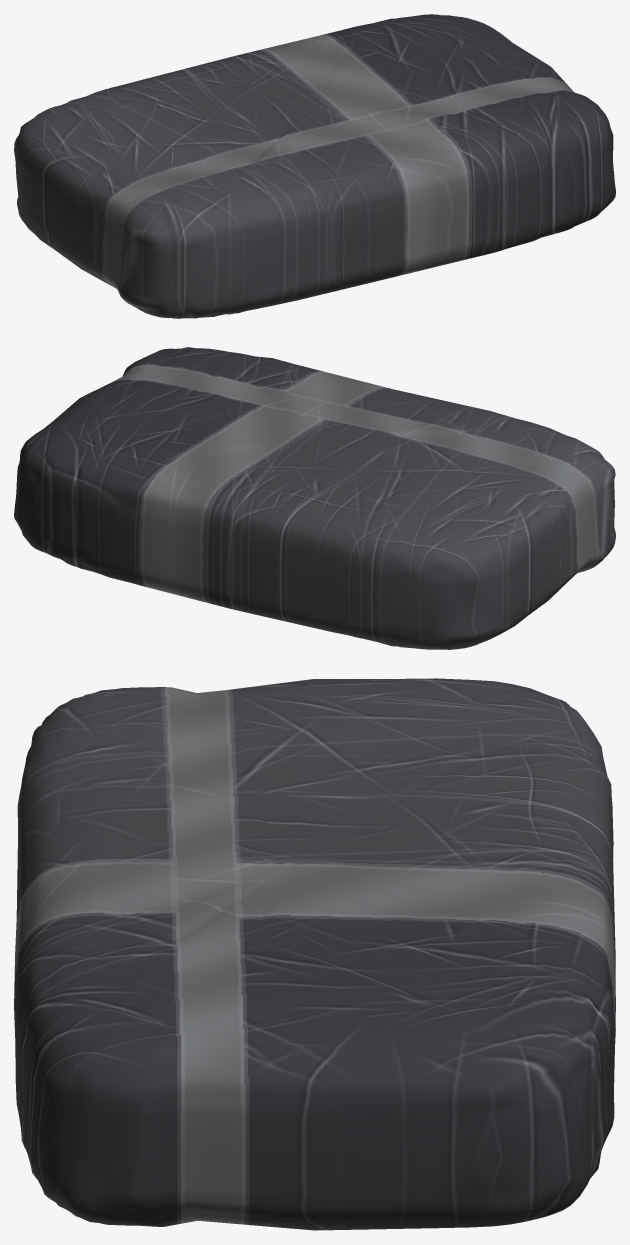
Rendered from paczka_start.glb.
The picture shows the model from 3 angles, top to bottom: view 1: azimuth 30°, elevation 25°; view 2: azimuth 150°, elevation 25°; view 3: azimuth 270°, elevation 25°; orthographic projection. The views are drawn at different scales.
Visible parts, largest first — view 1: PaczkaFolia; view 2: PaczkaFolia; view 3: PaczkaFolia.
Part boxes in pixels (x1=…): PaczkaFolia: x1=14, y1=14, x2=615, y2=318; PaczkaFolia: x1=14, y1=347, x2=615, y2=649; PaczkaFolia: x1=14, y1=678, x2=615, y2=1230.
Bounding box in the file's own units: 0.2011 × 0.0486 × 0.1258.
1 material, 1 textured.
